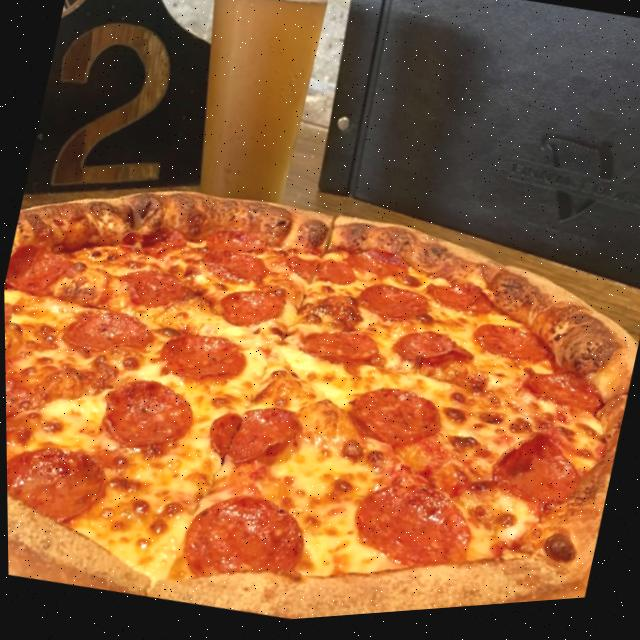pepperoni: (171, 479, 314, 606), (340, 471, 482, 591), (477, 421, 591, 533), (5, 426, 114, 539), (88, 366, 201, 466), (197, 391, 304, 483), (340, 379, 447, 470), (57, 295, 159, 369), (153, 321, 252, 396), (104, 253, 200, 324), (515, 365, 610, 430), (292, 322, 388, 382), (386, 326, 476, 387), (467, 321, 558, 381), (3, 233, 78, 304), (350, 278, 434, 338), (213, 279, 291, 343), (418, 274, 505, 330), (109, 214, 190, 270), (280, 247, 360, 299), (196, 241, 271, 295), (340, 239, 415, 292), (197, 220, 270, 267), (4, 382, 25, 459), (4, 300, 16, 349)
pizza: (2, 130, 640, 640)
